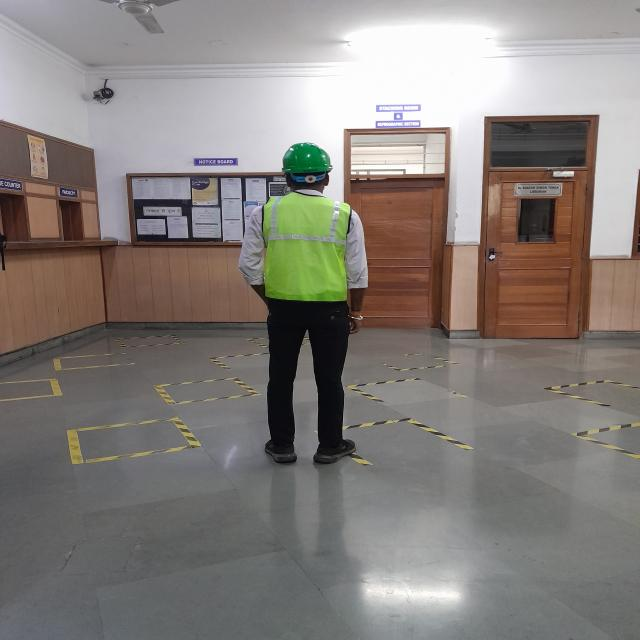safe: (236, 142, 366, 466)
